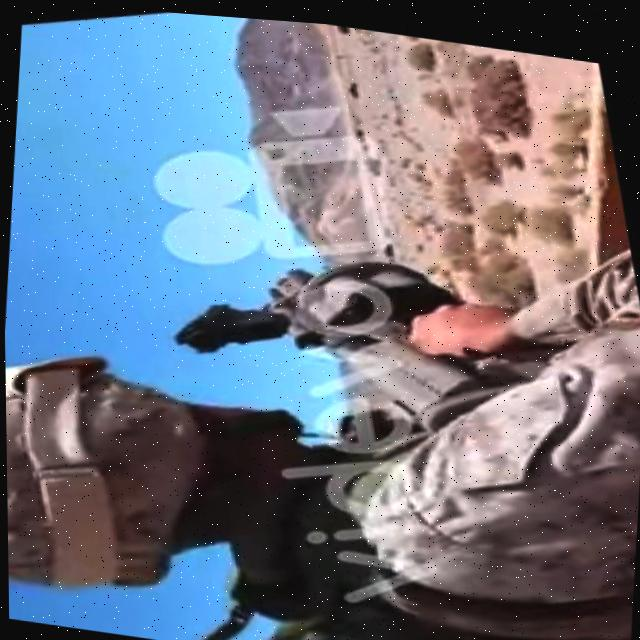rocket: (155, 197, 536, 486)
